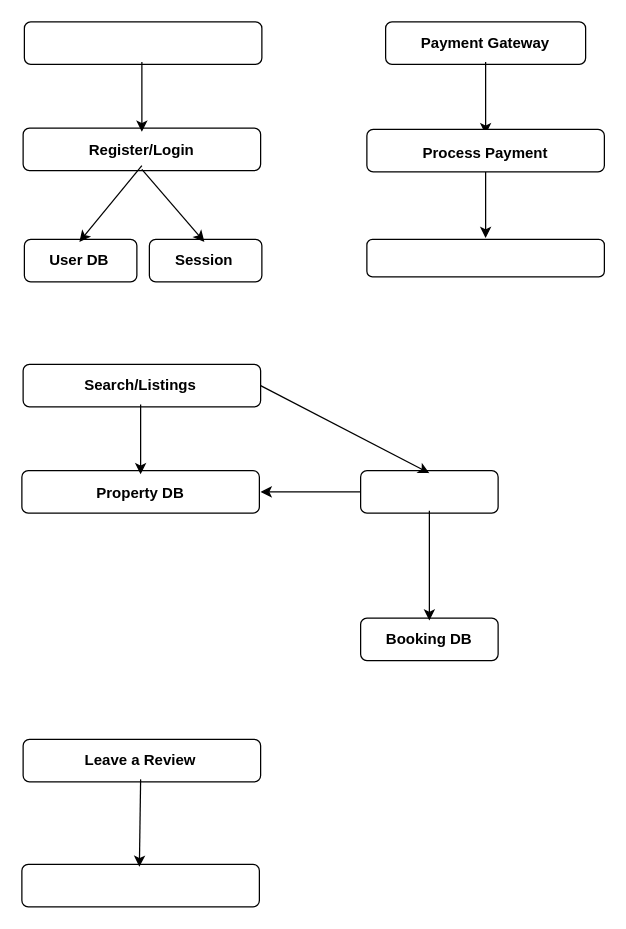
Image size: 626x929. Some labels were removed from this diagram. Here are the shapes that lost their labels. From the top down, the centre of each, then its label:
At [142,42]: "User".
At [485,257]: "Payments DB".
At [428,491]: "Booking Process".
At [140,885]: "Review DB".
